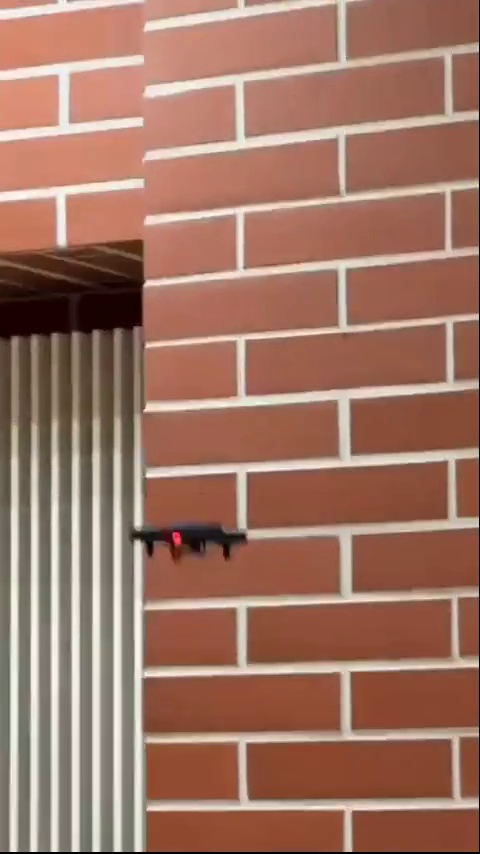drone: (124, 516, 257, 564)
